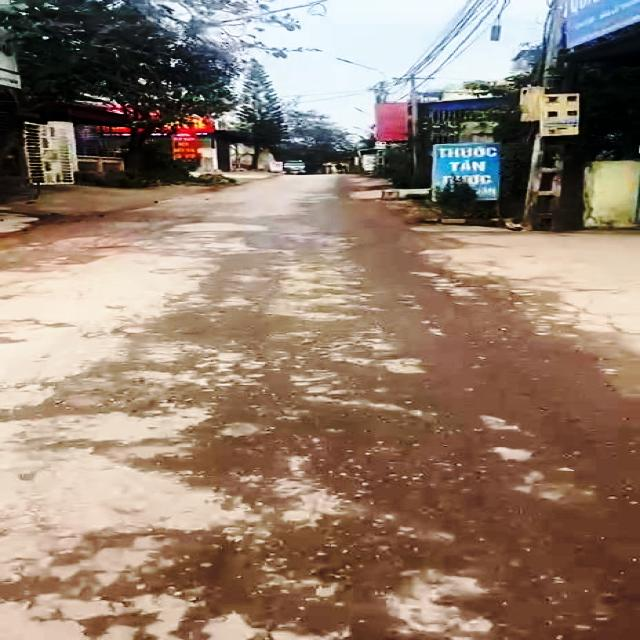pothole: (194, 530, 291, 640), (44, 383, 148, 415)
